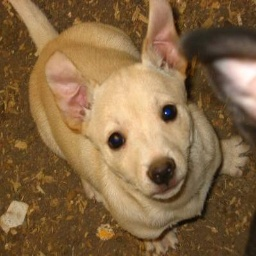dog: (12, 2, 225, 242)
